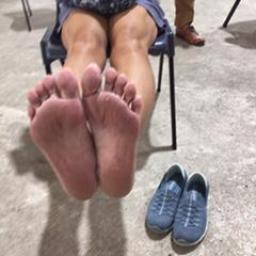Plantar View -Both Feet-: (18, 58, 145, 208)
